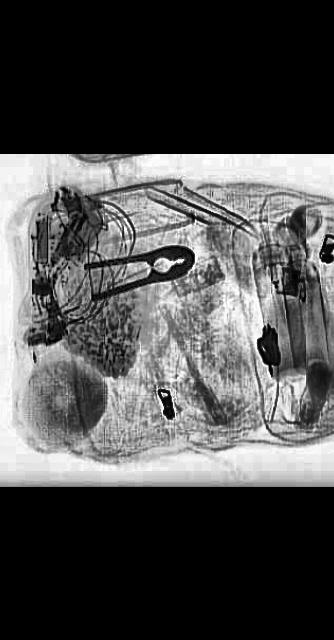Pliers: (65, 238, 207, 302)
